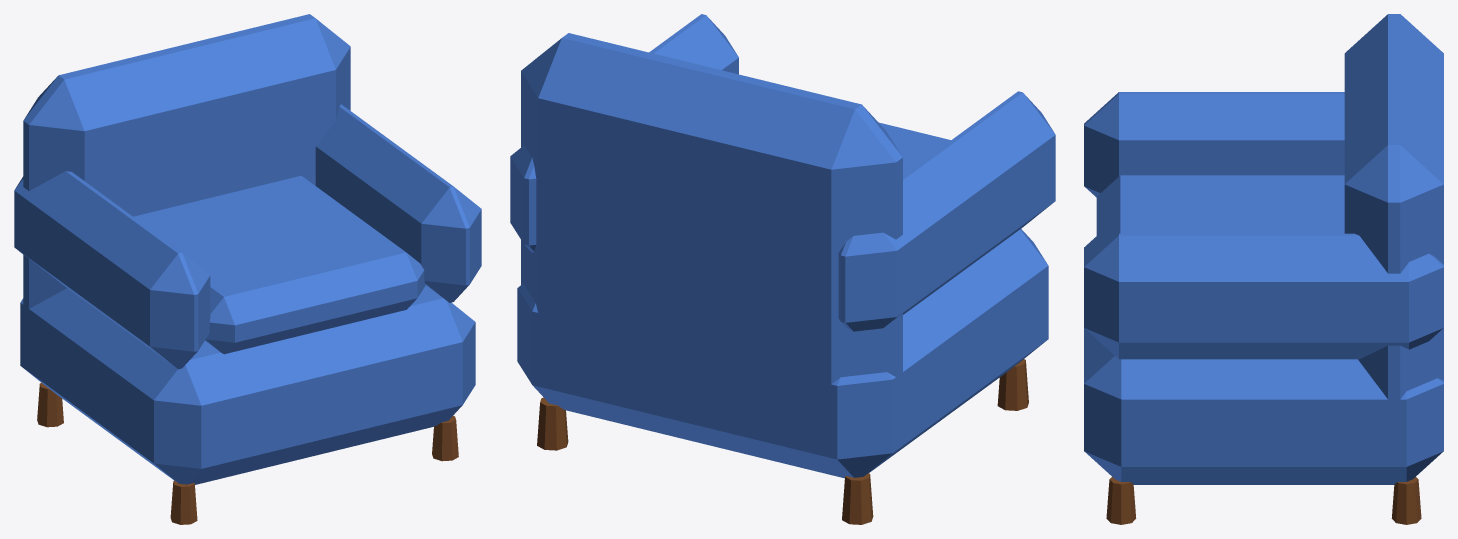
Rendered from BlueArmchair.fbx.
3 views of the same model, side by side, from view 1: azimuth 30°, elevation 25°; view 2: azimuth 150°, elevation 25°; view 3: azimuth 270°, elevation 25° (orthographic). The views are drawn at different scales.
Parts seen in each view (by area): view 1: BlueArmchair; view 2: BlueArmchair; view 3: BlueArmchair.
Part boxes in pixels (x1,y1,x2,y2): BlueArmchair: (14, 14, 481, 524); BlueArmchair: (510, 14, 1055, 524); BlueArmchair: (1084, 14, 1443, 524).
Bounding box in the file's own units: 3.3 × 3.3 × 2.9.
Materials: 1 (1 with a texture image).
